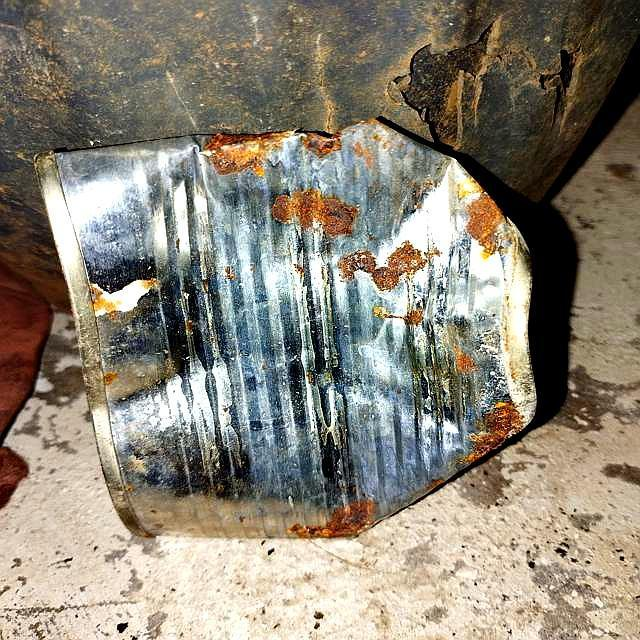Non-biodegradable: (35, 116, 541, 543)
